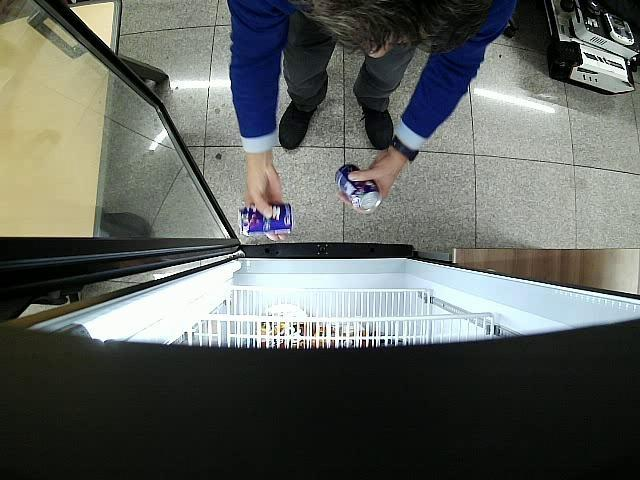14_welchsGrape: (334, 164, 382, 210), (237, 204, 295, 236)
